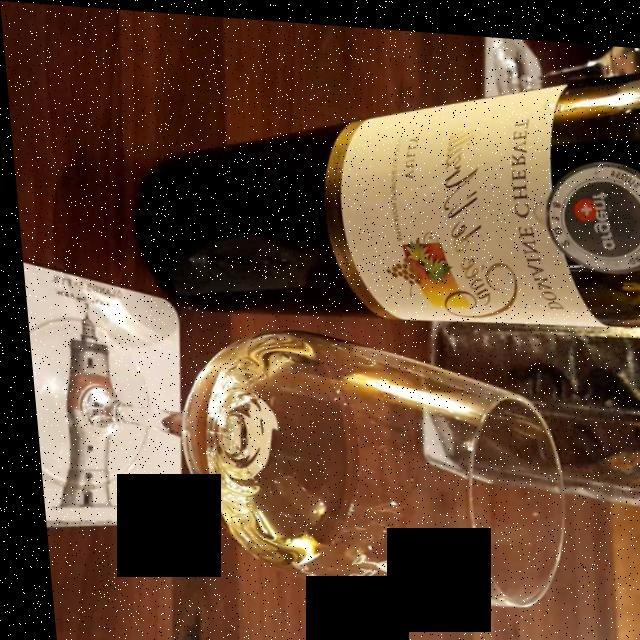drink: (201, 346, 351, 561)
